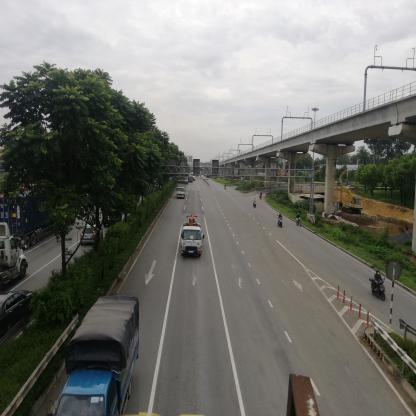car: (81, 222, 104, 246)
motorbike: (370, 270, 390, 301), (296, 215, 303, 230), (277, 216, 283, 229), (254, 201, 258, 209)
truck: (57, 294, 140, 416), (182, 218, 205, 258), (178, 182, 186, 199)
